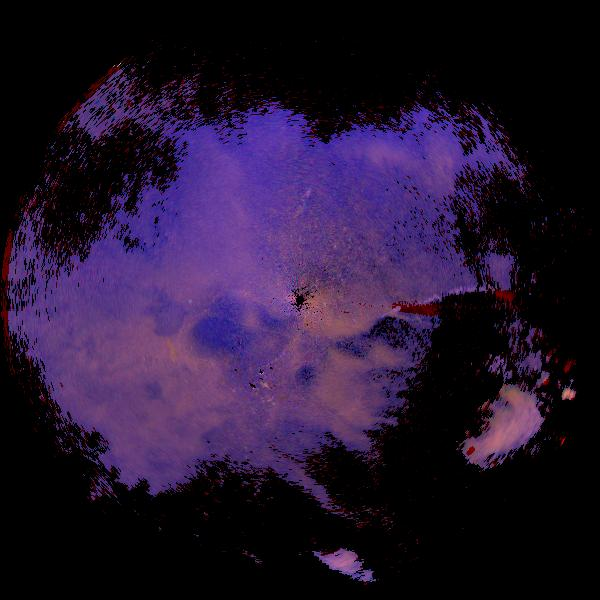roost: (147, 336, 186, 375)
